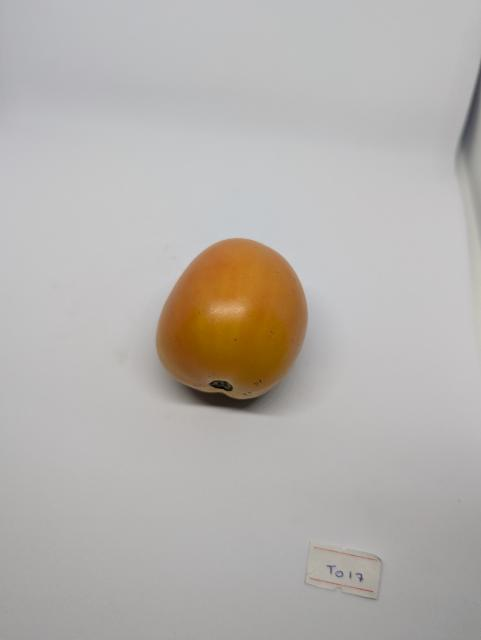turning: (147, 227, 317, 415)
